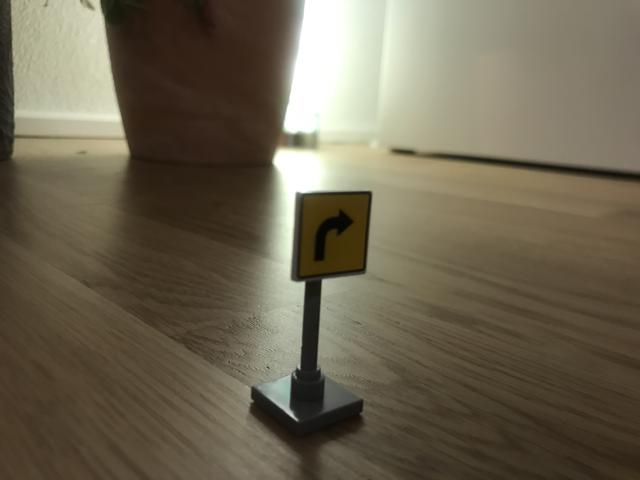fahrtrichtung rechts: (294, 188, 373, 281)
